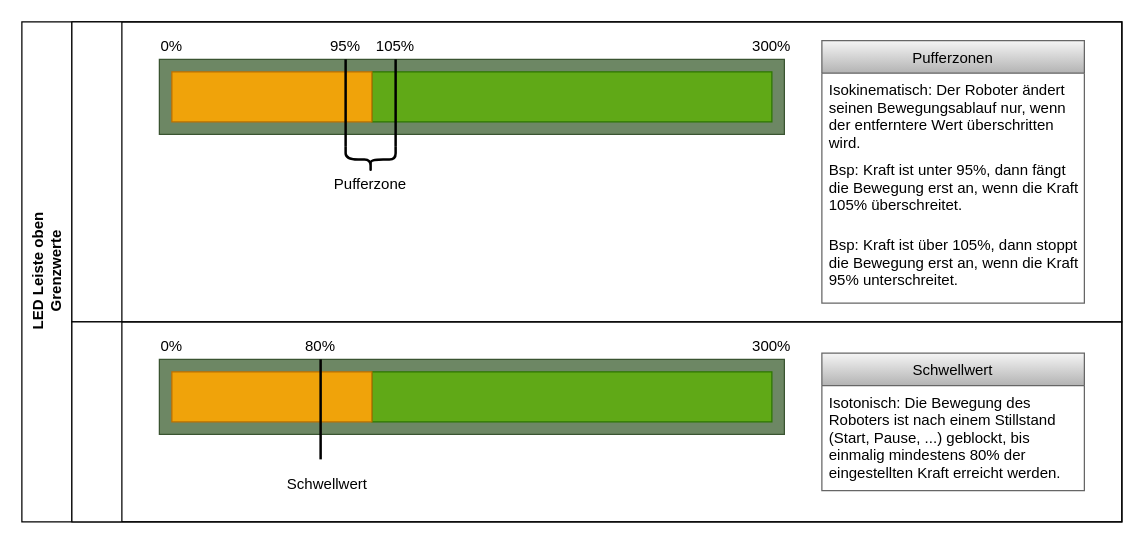
This 1144x544 diagram has some shape labels left out. The box of each missing label's shape, as (x1, y1, x2, y2) in pixels:
Pufferzone Isokinematisch: (71, 21, 1122, 322)
Schwellwert Isotonisch: (71, 321, 1122, 522)
